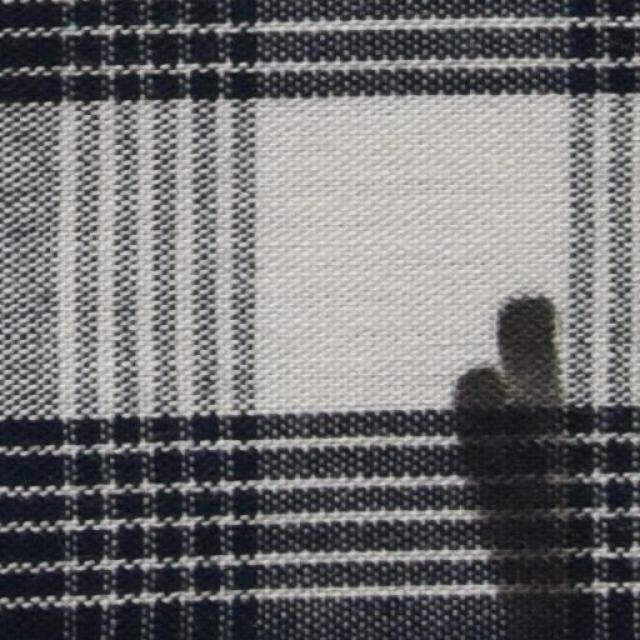Stain: (444, 292, 582, 639)
